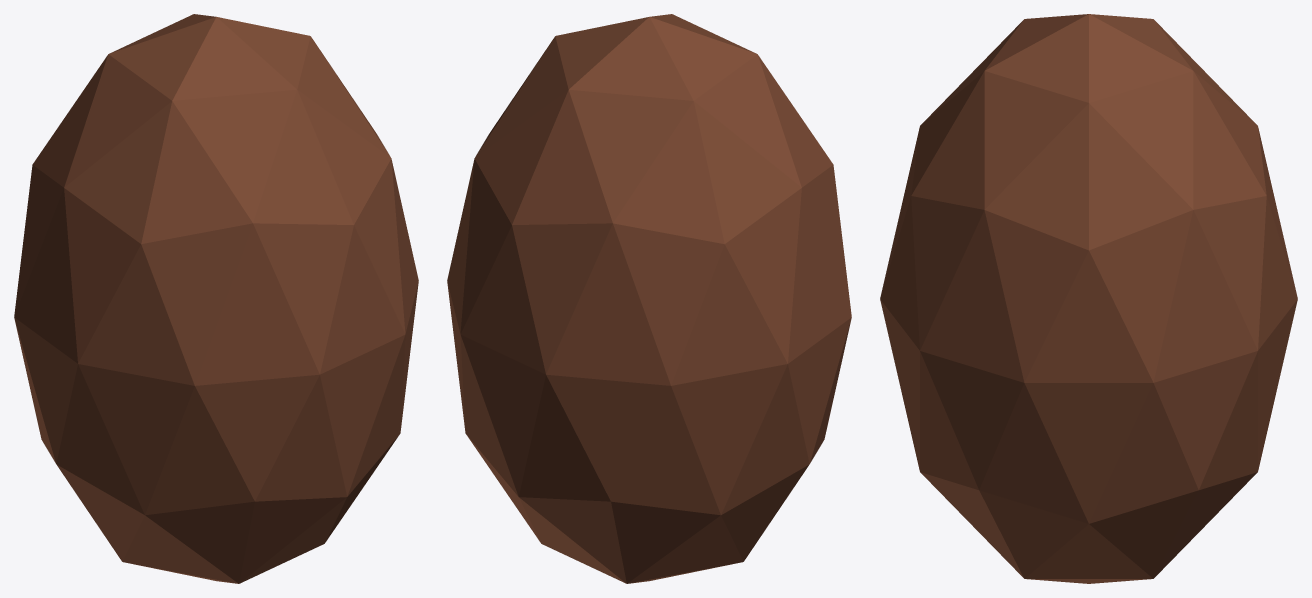
File: Oval Coconut.fbx
3 views of the same model, side by side, from view 1: azimuth 30°, elevation 25°; view 2: azimuth 150°, elevation 25°; view 3: azimuth 270°, elevation 25° (orthographic).
Visible parts, largest first — view 1: Oval Coconut; view 2: Oval Coconut; view 3: Oval Coconut.
Part boxes in pixels (x1,y1,x2,y2): Oval Coconut: (14, 14, 418, 583); Oval Coconut: (447, 14, 851, 583); Oval Coconut: (880, 14, 1297, 583).
Bounding box in the file's own units: 190 × 301 × 200.
